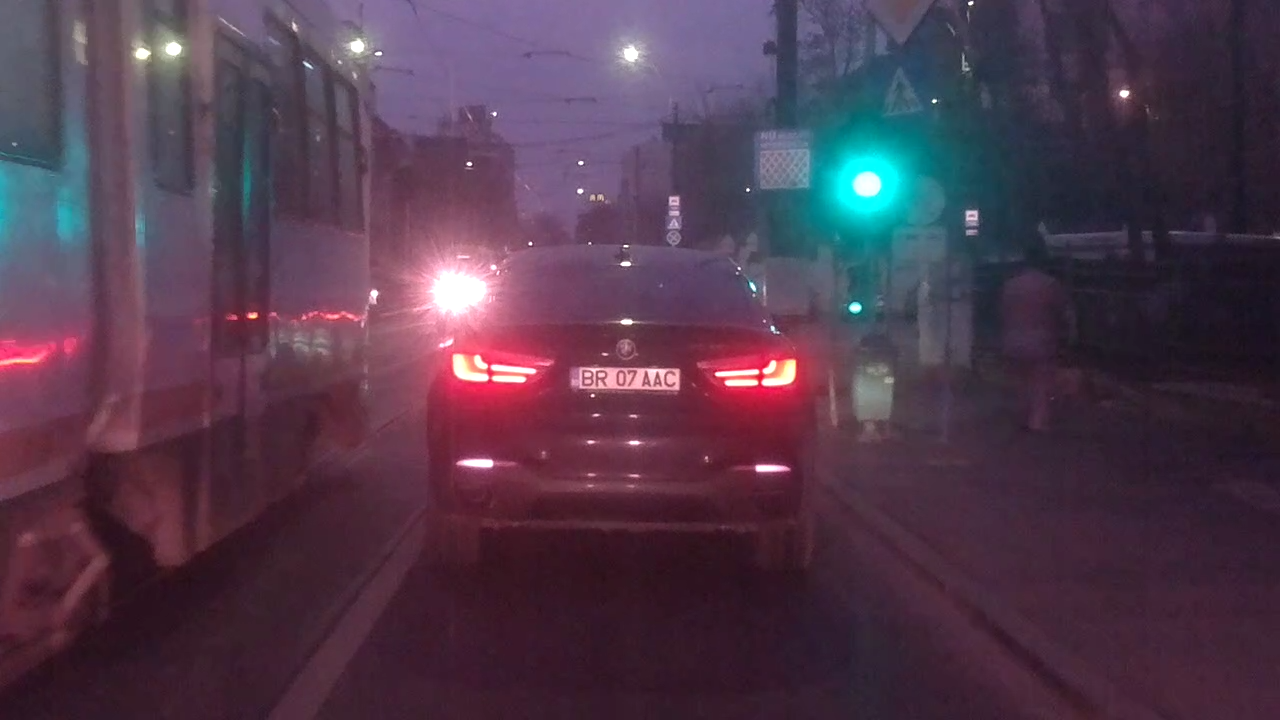license-plate: (565, 364, 684, 393)
